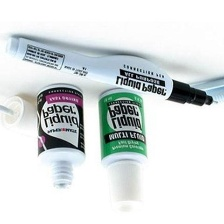correction_fluid: (3, 33, 220, 109), (96, 84, 149, 213), (33, 81, 87, 190)
